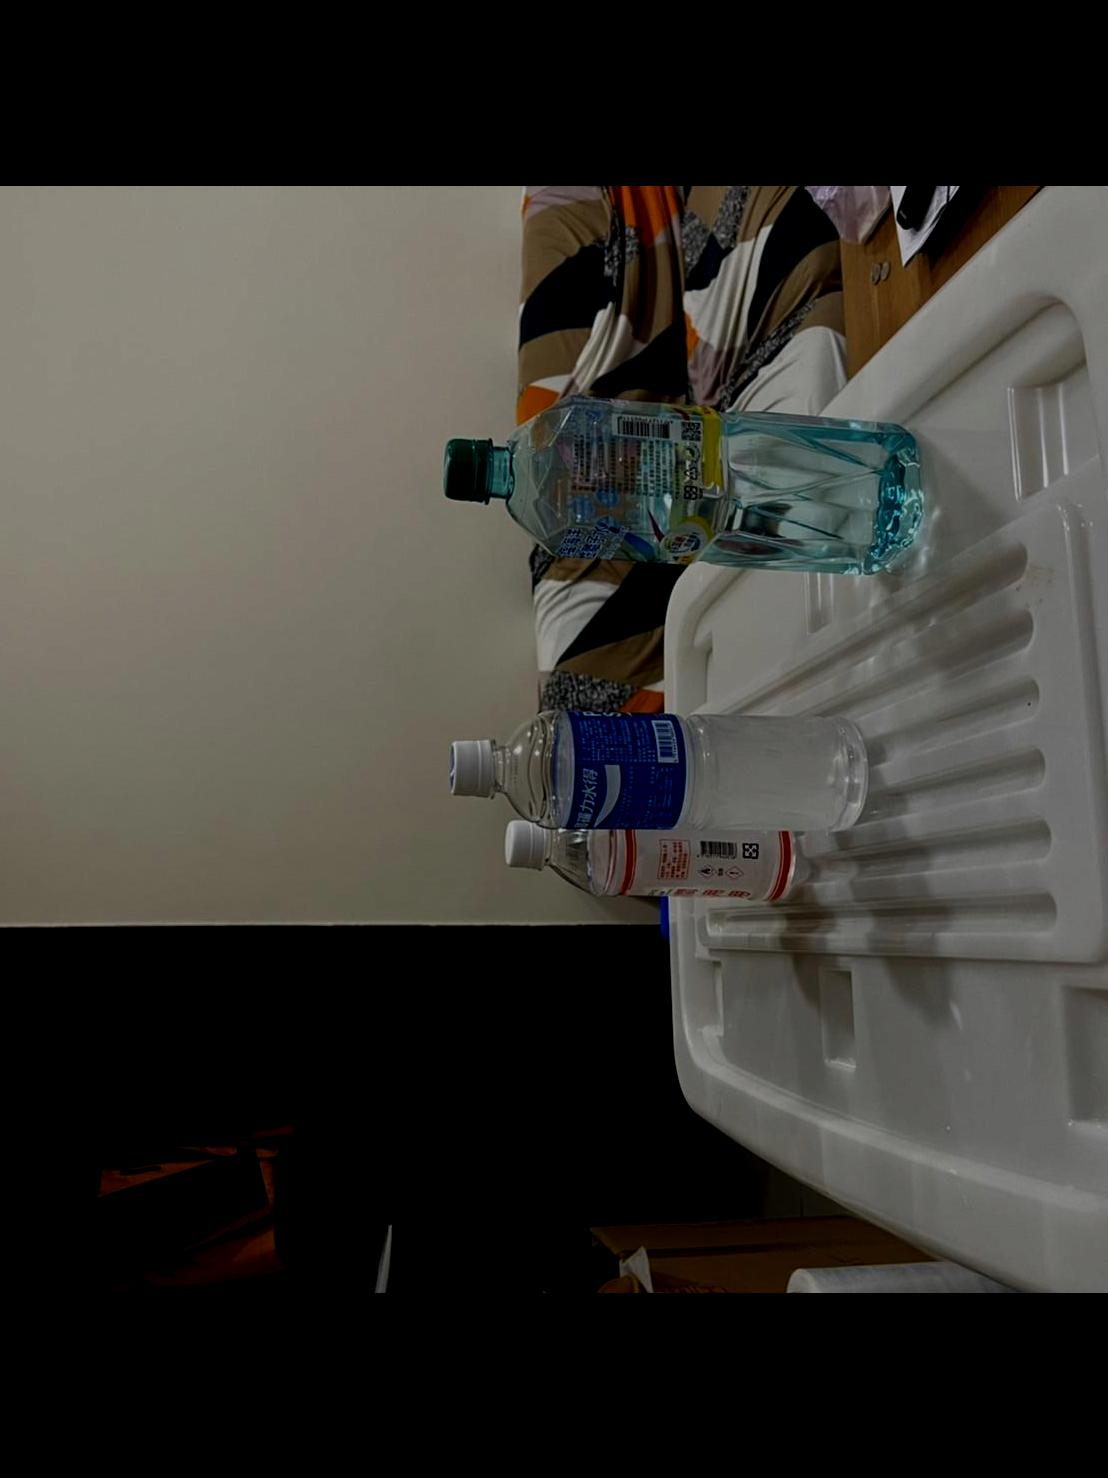bottle: (441, 362, 933, 581), (446, 687, 876, 840), (506, 801, 801, 917)
